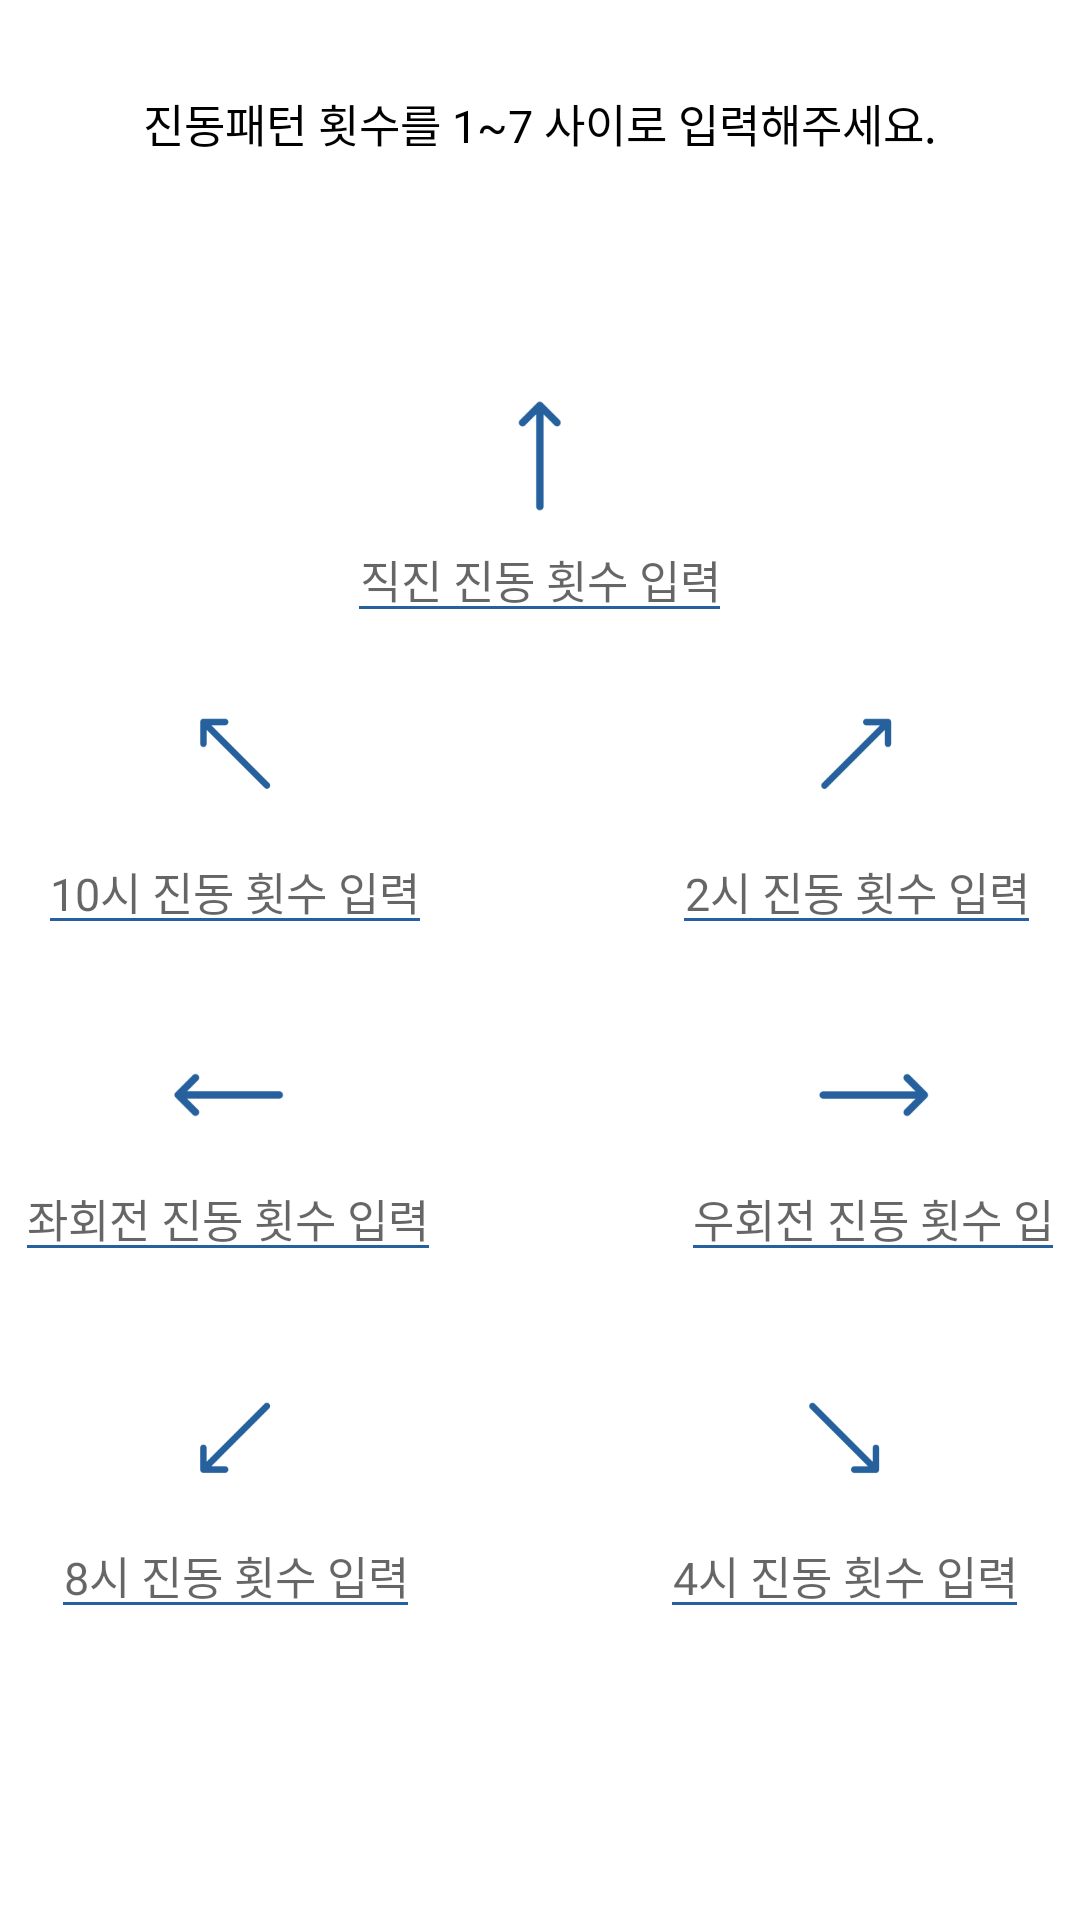

Icon bounding boxes for this 1080×1920 phone screenshot, format detection(x1, y1, x2, y2):
direction eight: detection(200, 1402, 270, 1473)
direction four: detection(809, 1402, 880, 1473)
direction left: detection(174, 1073, 284, 1117)
direction right: detection(819, 1073, 929, 1117)
direction straight: detection(518, 401, 561, 511)
direction ten: detection(200, 718, 271, 789)
direction two: detection(821, 718, 892, 789)
